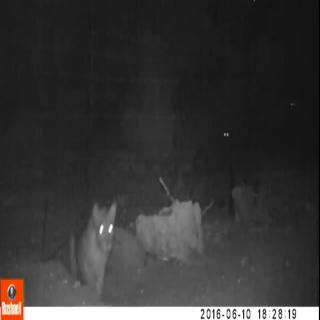Leopard: (61, 173, 130, 279)
